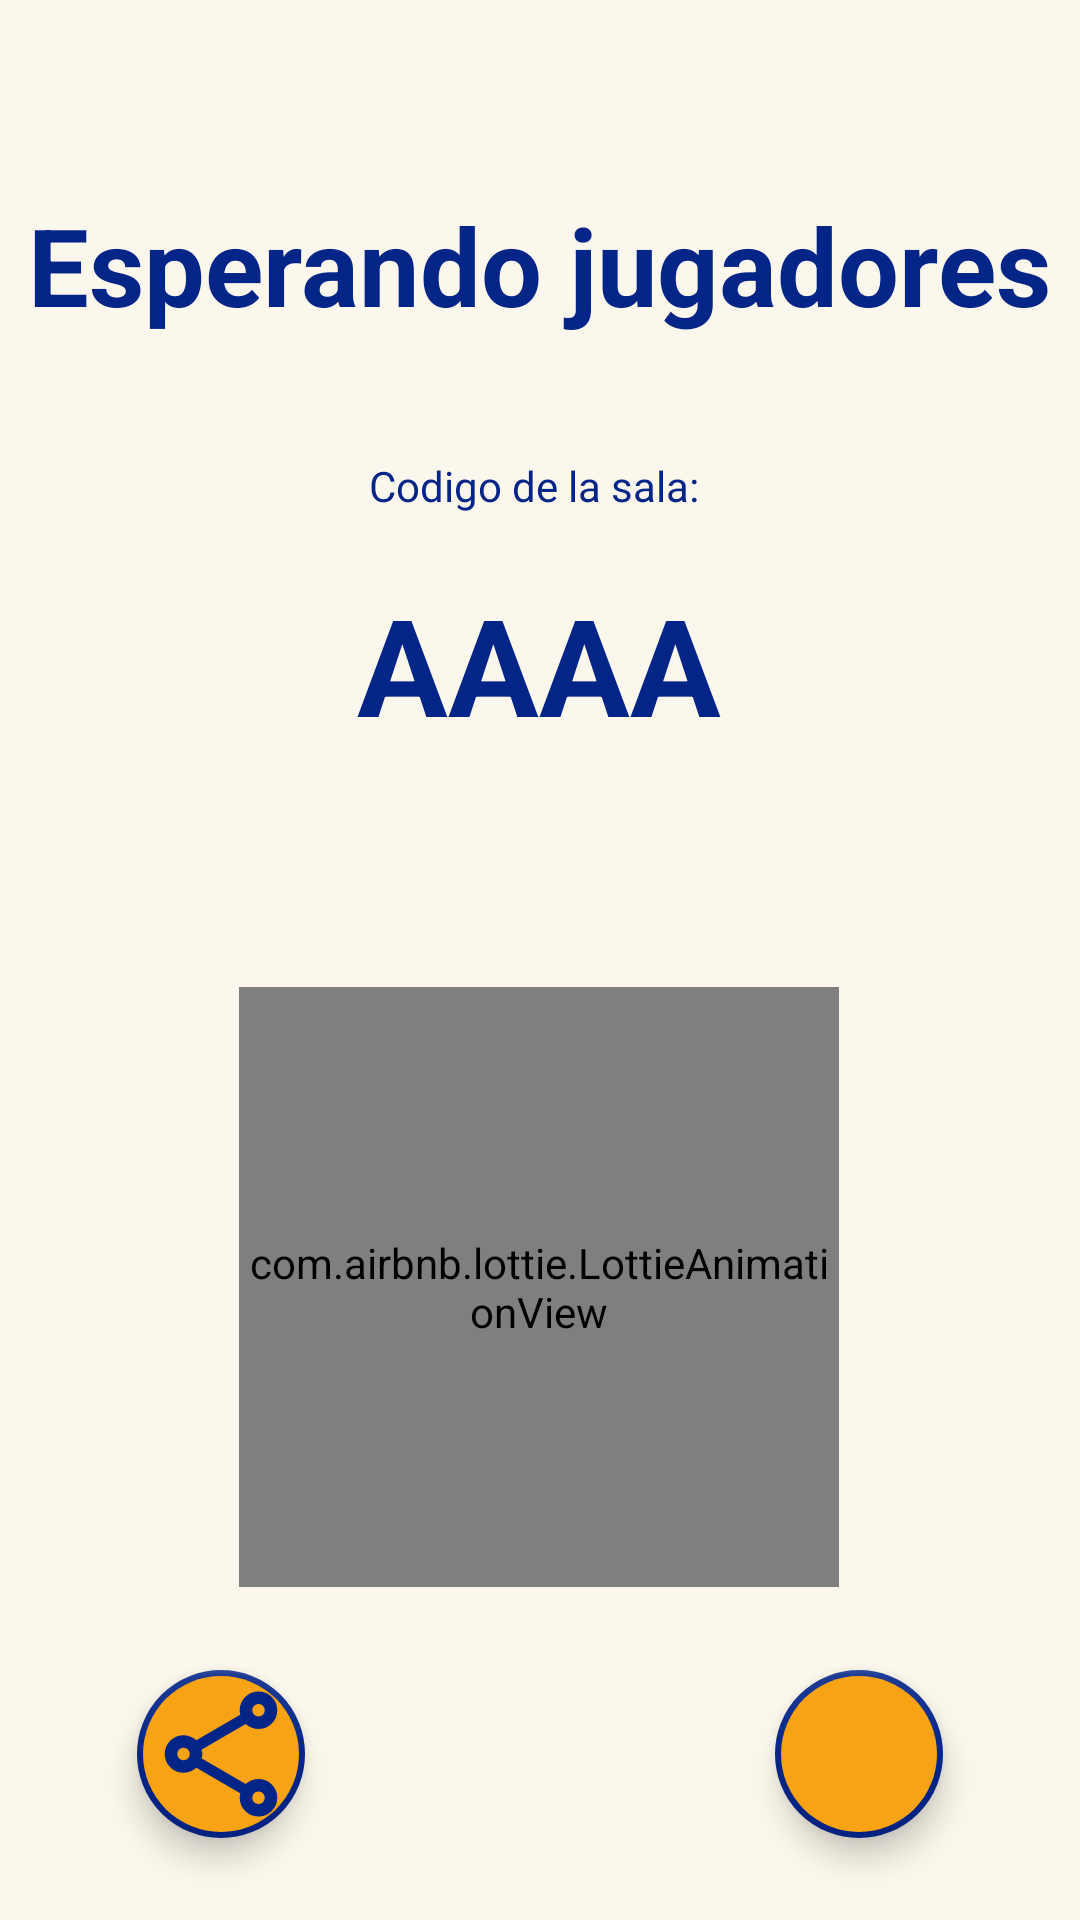

Screen size 1080w x 1920h. Icon name, then its center in pixels as point (x, y):
share: point (221, 1754)
